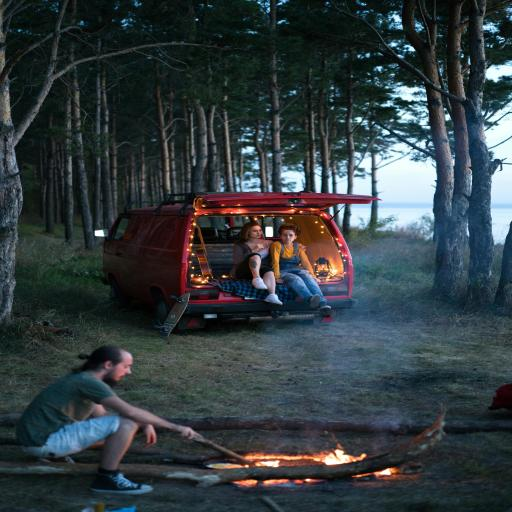campfire: (209, 418, 443, 496)
